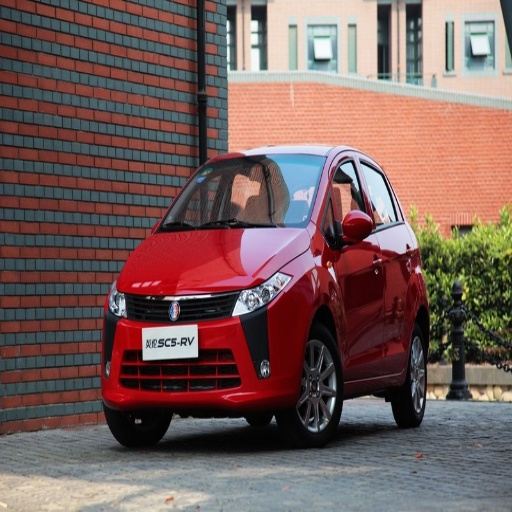back_left_door: (358, 155, 411, 371)
front_bumper: (107, 289, 309, 405)
front_glass: (159, 156, 324, 231)
front_left_door: (326, 152, 385, 376)
